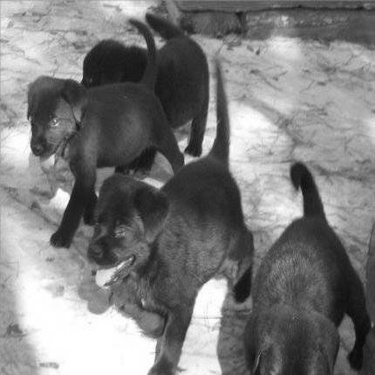dog: (88, 48, 261, 371), (20, 11, 186, 251), (232, 158, 370, 372), (81, 4, 217, 178)
